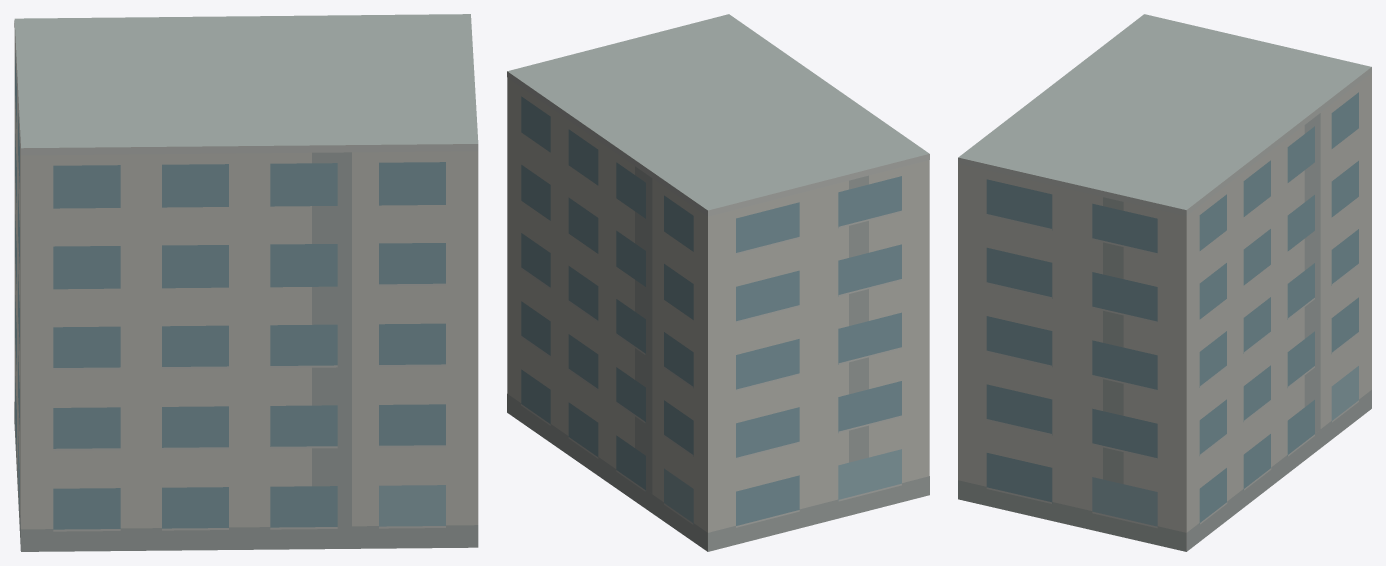
The model's file is survey-upis-32888352.glb.
3 renders of one model, left to right at view 1: azimuth 30°, elevation 25°; view 2: azimuth 150°, elevation 25°; view 3: azimuth 270°, elevation 25°, orthographic. The views are drawn at different scales.
Visible parts, largest first — view 1: survey-upis-32888352.tmp; view 2: survey-upis-32888352.tmp; view 3: survey-upis-32888352.tmp.
Boxes of the visible parts, x1,y1,x2,y2 form: survey-upis-32888352.tmp: (14,14,478,551); survey-upis-32888352.tmp: (507,14,929,551); survey-upis-32888352.tmp: (958,14,1371,551).
Bounding box in the file's own units: 16.5 × 13.4 × 14.71.
